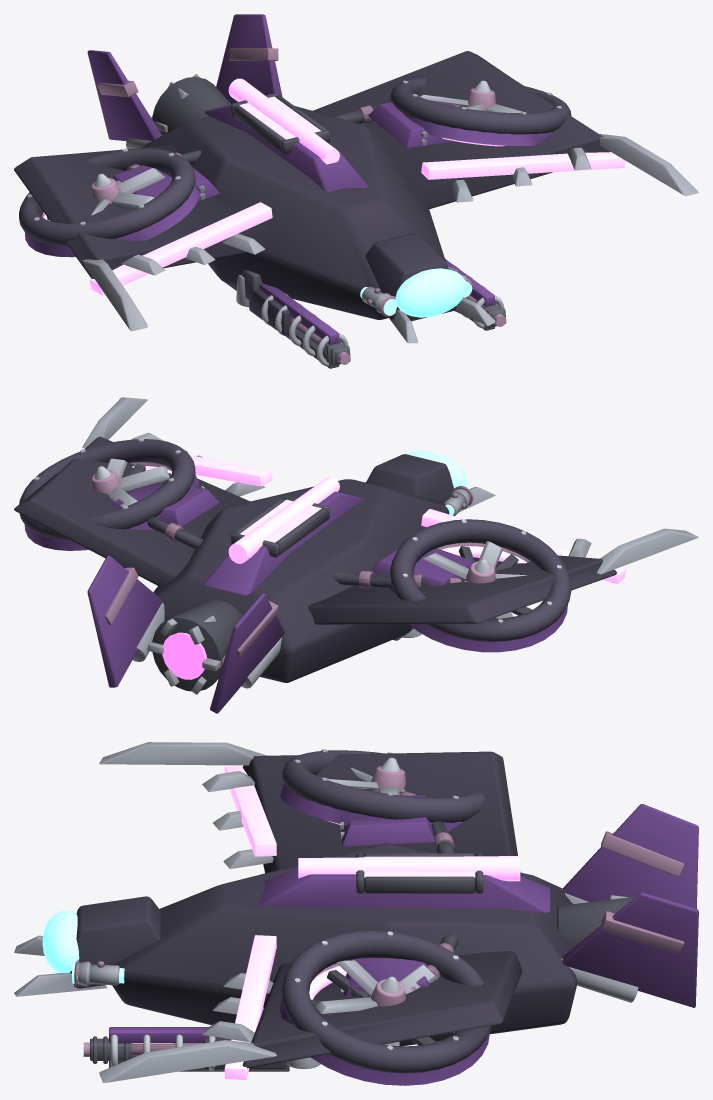
Rendered from void_swarmer.glb.
3 views of the same model, one above another, from view 1: azimuth 30°, elevation 25°; view 2: azimuth 150°, elevation 25°; view 3: azimuth 270°, elevation 25° (orthographic). The views are drawn at different scales.
Visible parts, largest first — view 1: BodyGroup_ArmorAlloy, BodyGroup_A3_SingularityGlow, FanShroud_0_ArmorAlloy, FanShroud_1_ArmorAlloy, HeadGroup_ArmorAlloy, WeaponSlide_ArmorAlloy, Stabilizer_L_ArmorAlloy, Stabilizer_R_ArmorAlloy, HeadGroup_A3_IceOptic, Rotor_0_ArmorAlloy, Rotor_1_ArmorAlloy, LeftWeaponSlide_ArmorAlloy (+1 smaller); view 2: BodyGroup_ArmorAlloy, FanShroud_0_ArmorAlloy, FanShroud_1_ArmorAlloy, Stabilizer_L_ArmorAlloy, BodyGroup_A3_SingularityGlow, Stabilizer_R_ArmorAlloy, HeadGroup_ArmorAlloy, Rotor_1_ArmorAlloy, Rotor_0_ArmorAlloy, BodyGroup_A3_MagentaCore, HeadGroup_A3_IceOptic; view 3: BodyGroup_ArmorAlloy, FanShroud_1_ArmorAlloy, Stabilizer_L_ArmorAlloy, BodyGroup_A3_SingularityGlow, Stabilizer_R_ArmorAlloy, FanShroud_0_ArmorAlloy, HeadGroup_ArmorAlloy, LeftWeaponSlide_ArmorAlloy, Rotor_1_ArmorAlloy, HeadGroup_A3_IceOptic, Rotor_0_ArmorAlloy.
Boxes of the visible parts, x1,y1,x2,y2 form: BodyGroup_ArmorAlloy: (14,51,698,331); BodyGroup_A3_SingularityGlow: (43,78,625,295); FanShroud_0_ArmorAlloy: (19,148,198,257); FanShroud_1_ArmorAlloy: (390,77,571,146); HeadGroup_ArmorAlloy: (362,233,495,343); WeaponSlide_ArmorAlloy: (249,283,350,368); Stabilizer_L_ArmorAlloy: (216,14,282,103); Stabilizer_R_ArmorAlloy: (87,50,161,148); HeadGroup_A3_IceOptic: (360,267,472,317); Rotor_0_ArmorAlloy: (91,168,164,215); Rotor_1_ArmorAlloy: (420,80,522,113); LeftWeaponSlide_ArmorAlloy: (445,258,506,330); BodyGroup_ArmorAlloy: (14,397,698,694); FanShroud_0_ArmorAlloy: (389,519,571,652); FanShroud_1_ArmorAlloy: (19,438,198,550); Stabilizer_L_ArmorAlloy: (87,555,164,687); BodyGroup_A3_SingularityGlow: (112,441,625,601); Stabilizer_R_ArmorAlloy: (210,593,284,713); HeadGroup_ArmorAlloy: (365,454,495,515); Rotor_1_ArmorAlloy: (91,458,169,507); Rotor_0_ArmorAlloy: (423,541,526,618); BodyGroup_A3_MagentaCore: (162,632,206,679); HeadGroup_A3_IceOptic: (407,451,466,515); BodyGroup_ArmorAlloy: (99,742,635,1082); FanShroud_1_ArmorAlloy: (280,930,492,1085); Stabilizer_L_ArmorAlloy: (561,892,698,1007); BodyGroup_A3_SingularityGlow: (224,765,520,1079); Stabilizer_R_ArmorAlloy: (562,804,698,908); FanShroud_0_ArmorAlloy: (280,749,484,831); HeadGroup_ArmorAlloy: (14,896,160,996); LeftWeaponSlide_ArmorAlloy: (83,1027,289,1071); Rotor_1_ArmorAlloy: (315,960,454,1045); HeadGroup_A3_IceOptic: (42,910,124,983); Rotor_0_ArmorAlloy: (328,757,405,795).
Size of the model in its own units: 1.46 by 0.3969 by 1.3.
